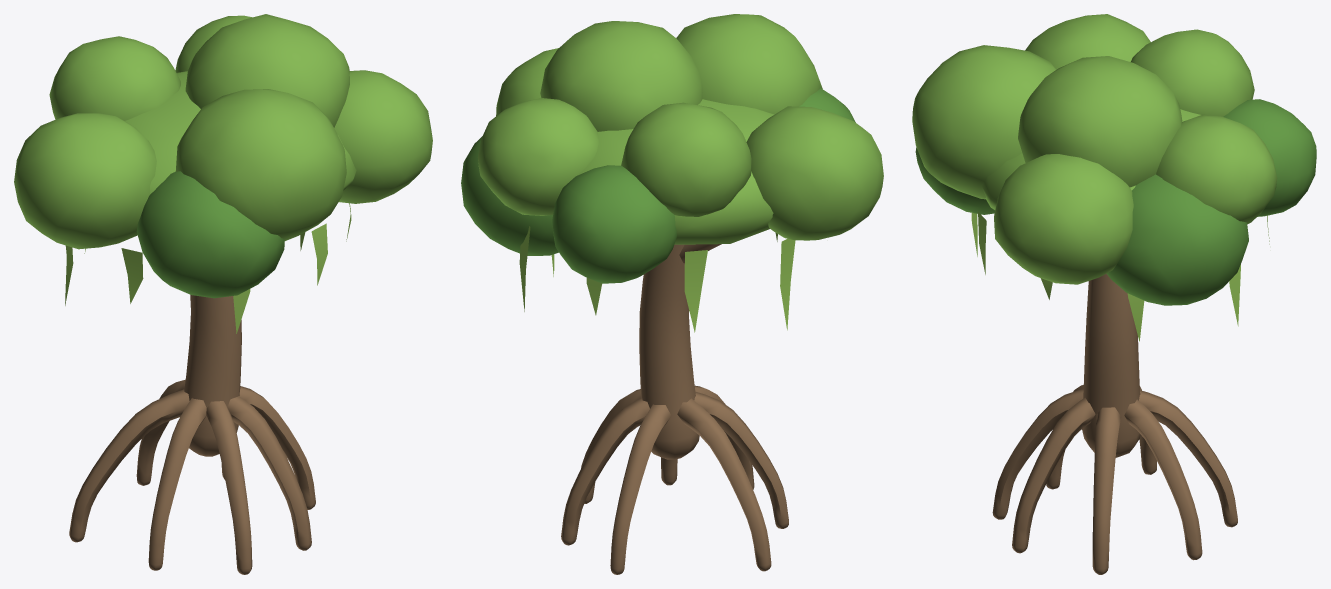
Rendered from swamp_tree.glb.
3 views of the same model, side by side, from view 1: azimuth 30°, elevation 25°; view 2: azimuth 150°, elevation 25°; view 3: azimuth 270°, elevation 25° (orthographic).
Visible parts, largest first — view 1: swamp_tree; view 2: swamp_tree; view 3: swamp_tree.
Part boxes in pixels (box(x1,y1,x2,y2)): swamp_tree: box(14, 14, 432, 574); swamp_tree: box(461, 14, 883, 574); swamp_tree: box(912, 14, 1316, 574).
Bounding box in the file's own units: 5.57 × 6.8 × 5.09.
